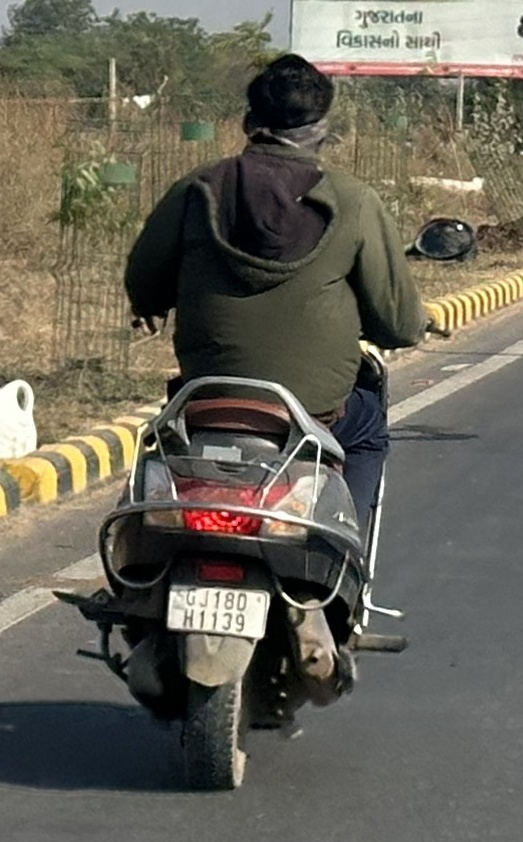BikeWithRider: (54, 53, 475, 802)
NoHelmet: (239, 53, 342, 163)
